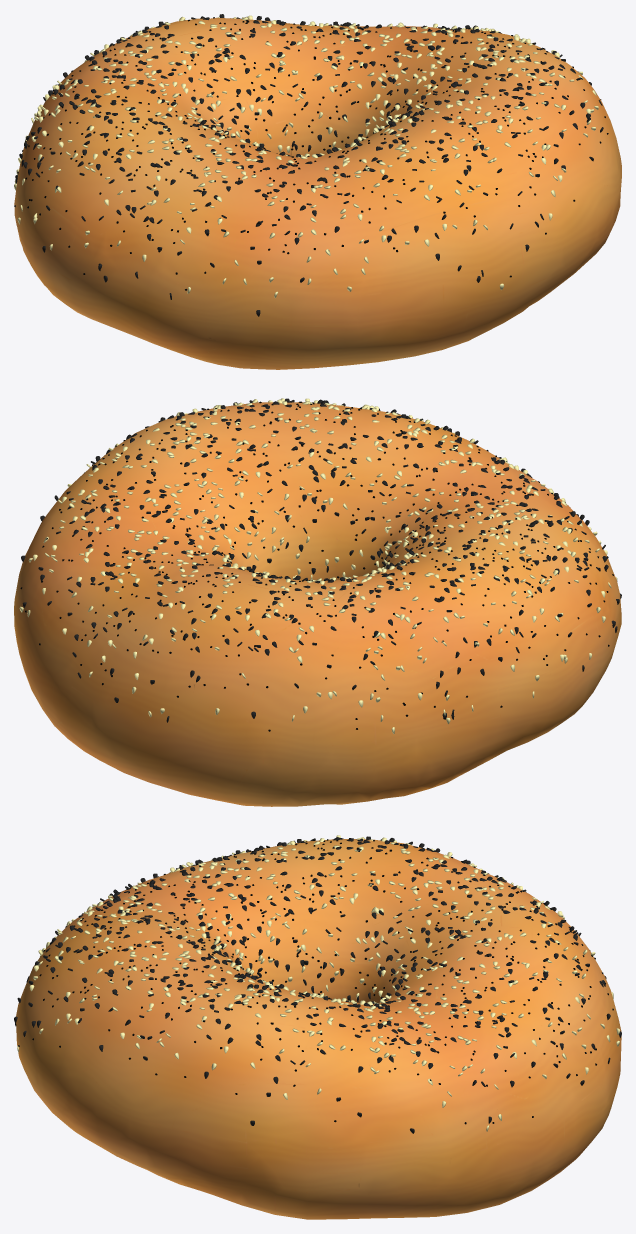
Rendered from bagel.glb.
3 renders of one model, top to bottom at view 1: azimuth 30°, elevation 25°; view 2: azimuth 150°, elevation 25°; view 3: azimuth 270°, elevation 25°, orthographic.
Visible parts, largest first — view 1: mesh; view 2: mesh; view 3: mesh.
Boxes of the visible parts, x1,y1,x2,y2 form: mesh: (14, 14, 621, 369); mesh: (14, 398, 621, 806); mesh: (14, 835, 621, 1219).
Size of the model in its own units: 2.32 by 0.9259 by 2.26.
Materials: 1 (1 with a texture image).
